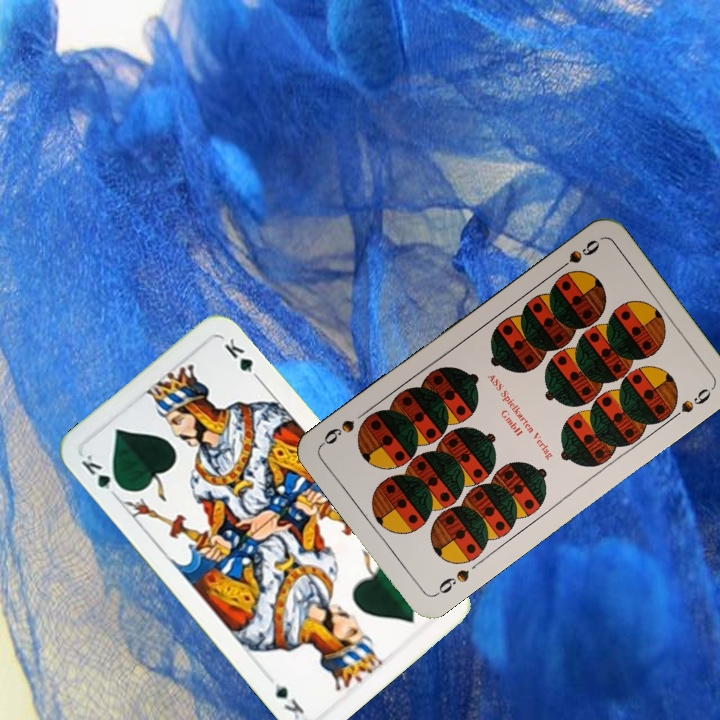GK: (77, 450, 126, 501)
S9: (551, 235, 603, 276), (430, 565, 472, 599)
